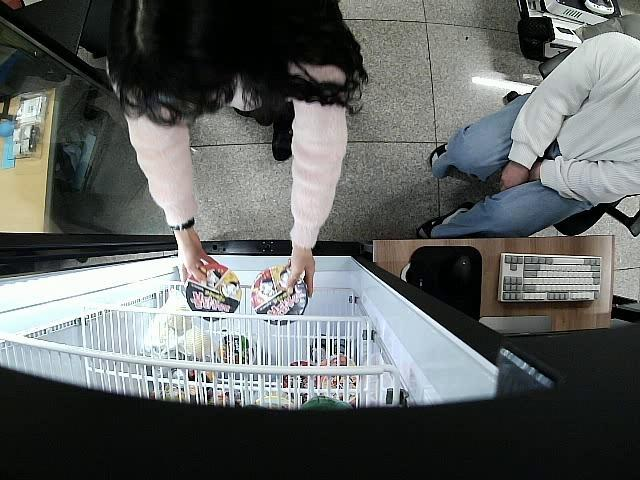07_buldak_L: (252, 268, 308, 327), (185, 264, 241, 320)
